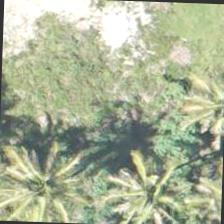Kelapa_Sawit: (109, 145, 204, 223), (0, 146, 88, 223), (172, 62, 223, 156)
